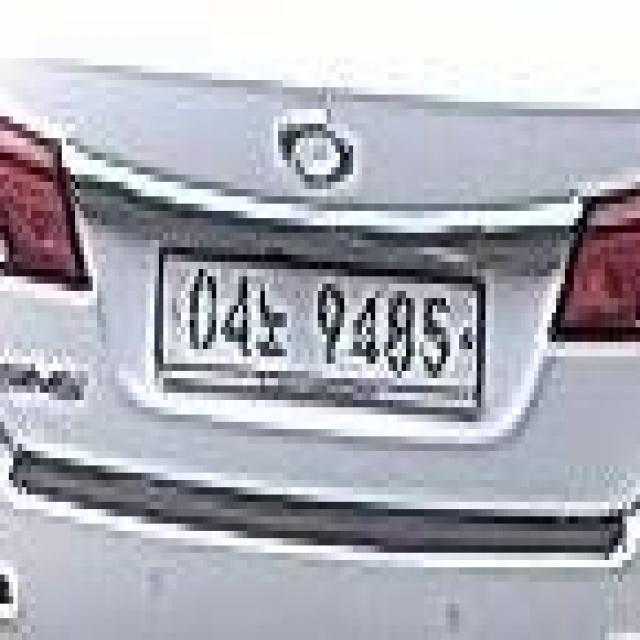illegal_plate: (155, 239, 489, 428)
